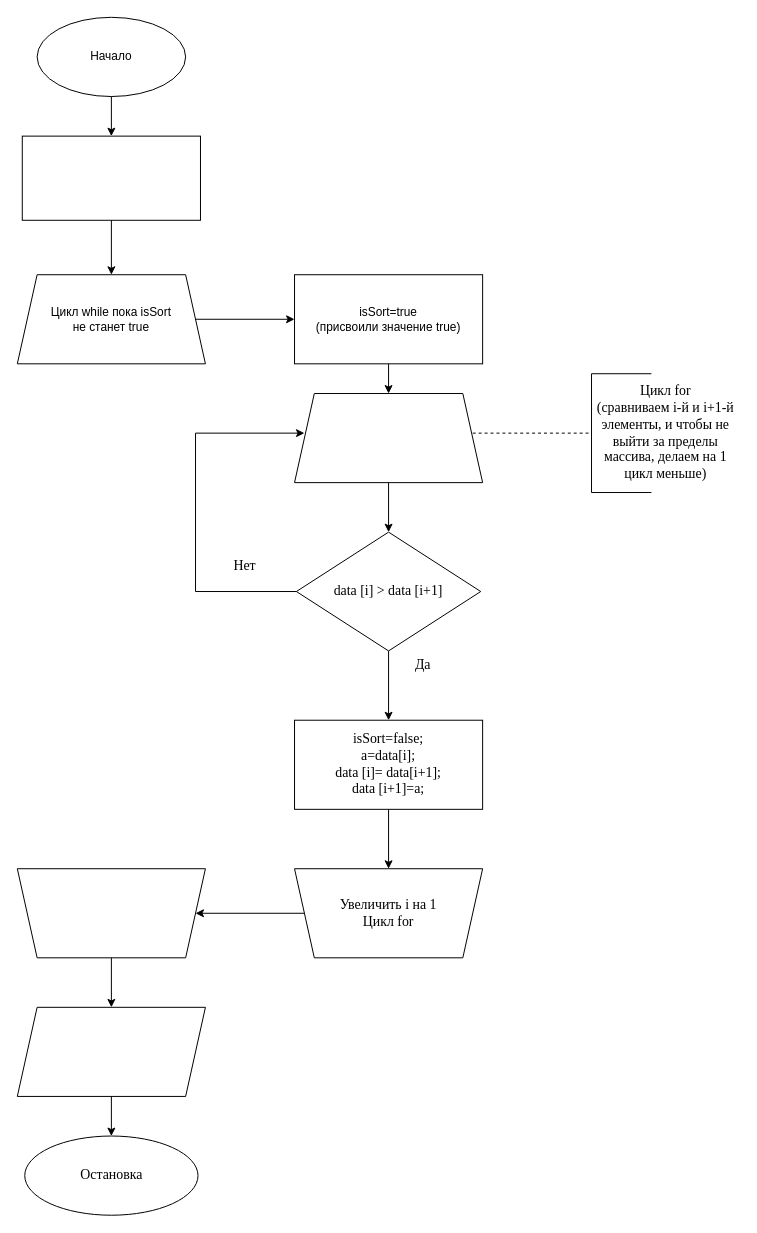
The diagram is 757 pixels wide and 1233 high, and some of its shapes have lost their labels. The shapes that lost their labels are listed below. From the top down, each one's centre as x and y in pixels, then its label:
[110,177]: int [] data = {}; boolean isSort=false; int a
[388,438]: Цикл for (int i = 0; i < data.length -1; i++)
[110,913]: Пока isSort=true Цикл while
[110,1051]: Вывести массив data
